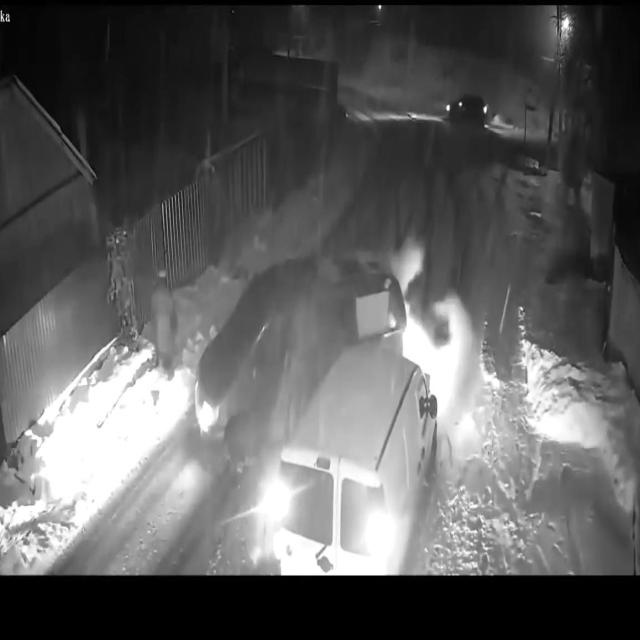accident: (189, 232, 447, 576)
